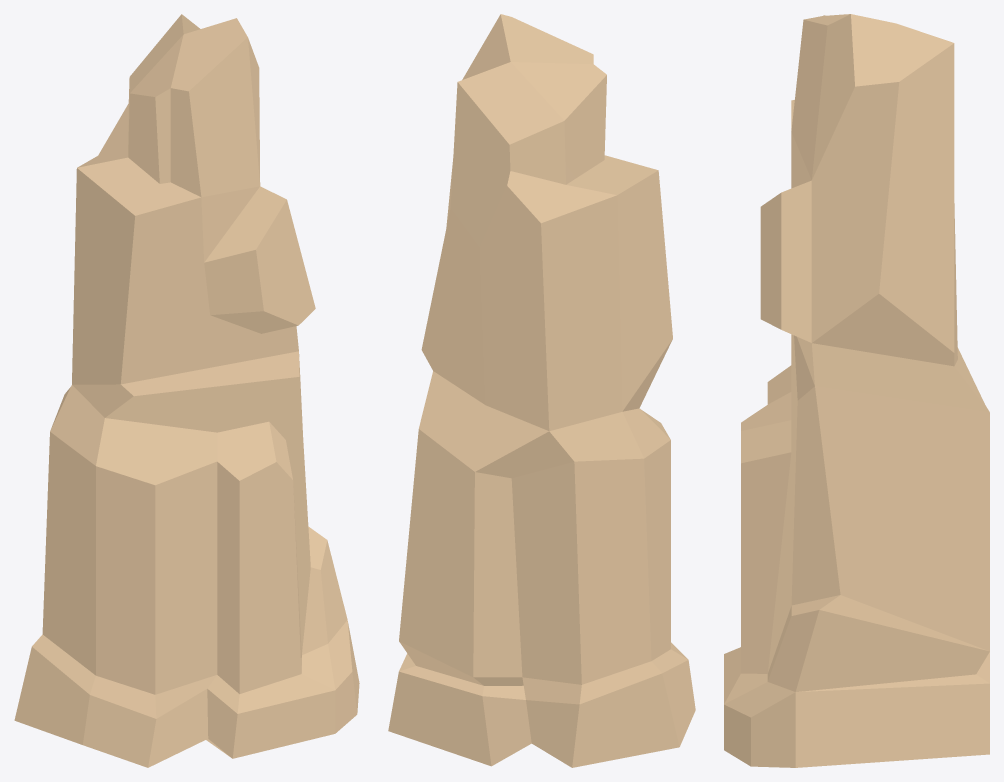
The model's file is rock-pillar.glb.
3 views of the same model, side by side, from view 1: azimuth 30°, elevation 25°; view 2: azimuth 150°, elevation 25°; view 3: azimuth 270°, elevation 25° (orthographic). The views are drawn at different scales.
Parts seen in each view (by area): view 1: rock-pillar; view 2: rock-pillar; view 3: rock-pillar.
Boxes of the visible parts, <box> form: rock-pillar: <box>14,14,359,767</box>; rock-pillar: <box>388,14,695,767</box>; rock-pillar: <box>724,14,989,767</box>.
Bounding box in the file's own units: 3.05 × 6.77 × 2.24.
1 material, 1 textured.
